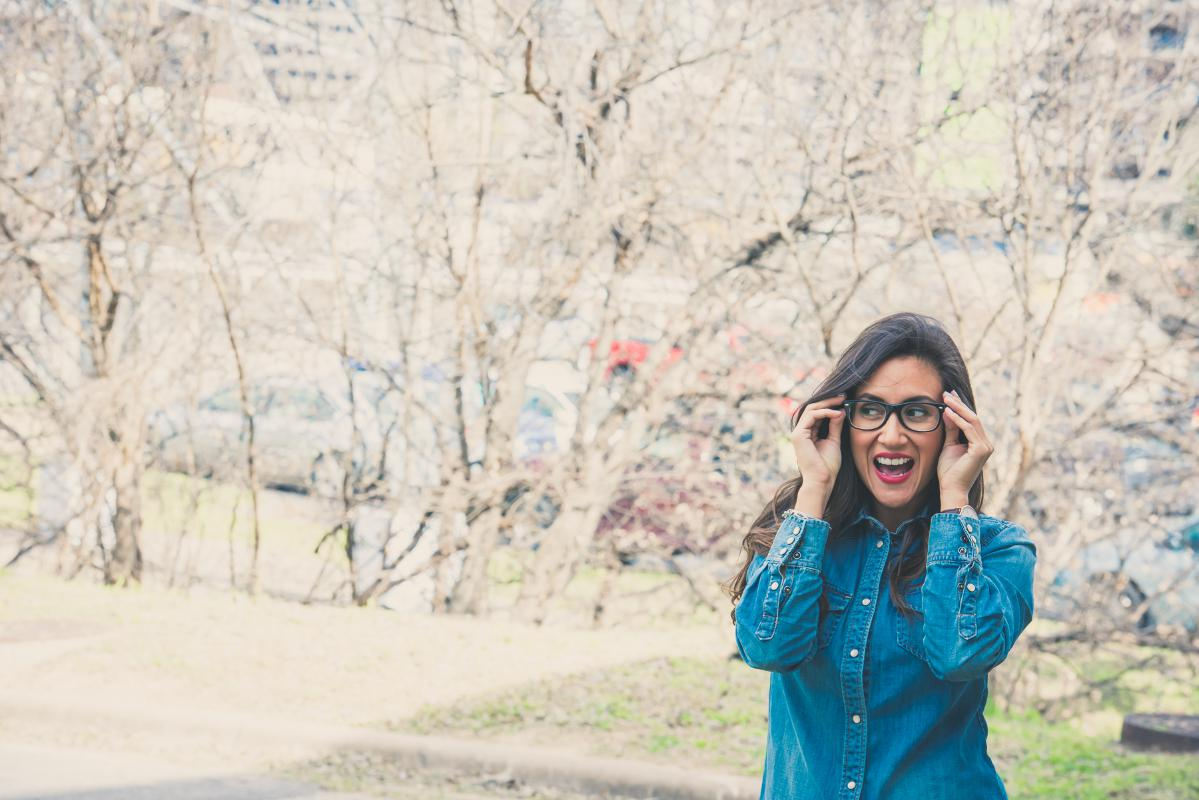Person: (726, 310, 1048, 800)
